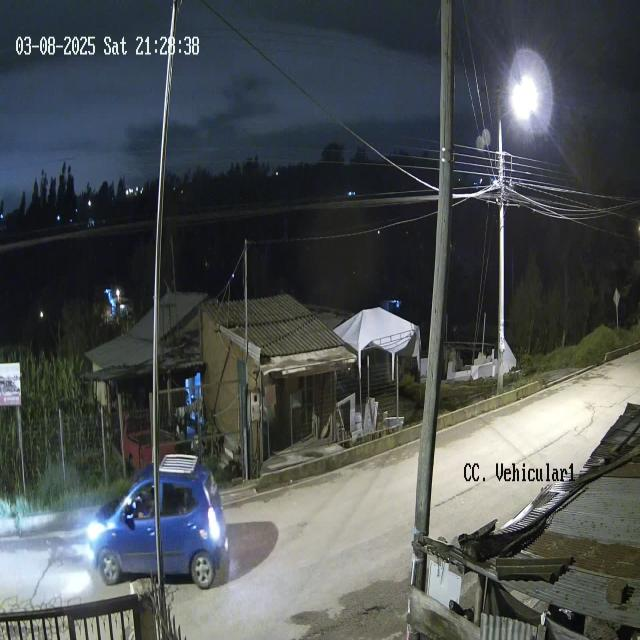SED: (90, 456, 232, 587)
